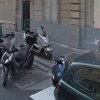Motorcycle: (2, 23, 53, 96)
